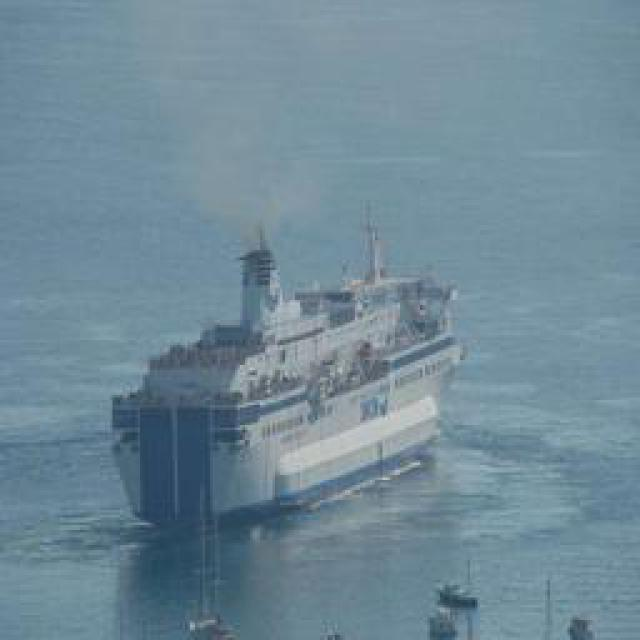Ship: (110, 196, 460, 541)
